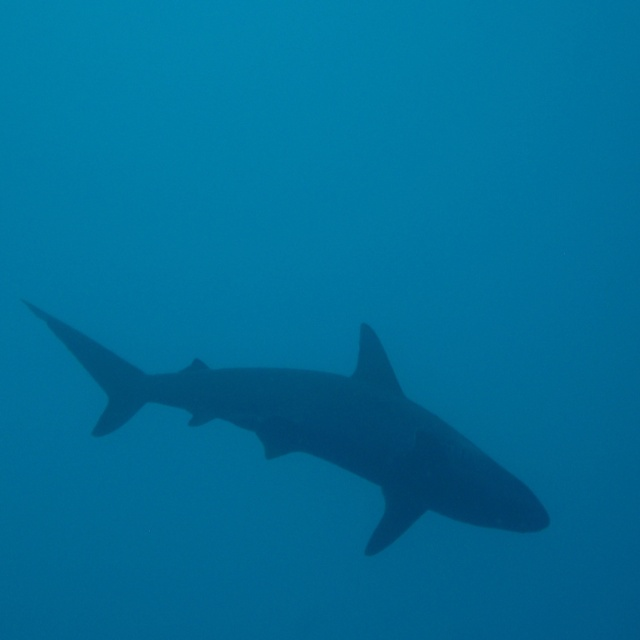Shark: (20, 302, 552, 560)
